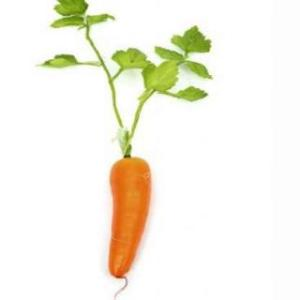carrot: (89, 150, 166, 288)
